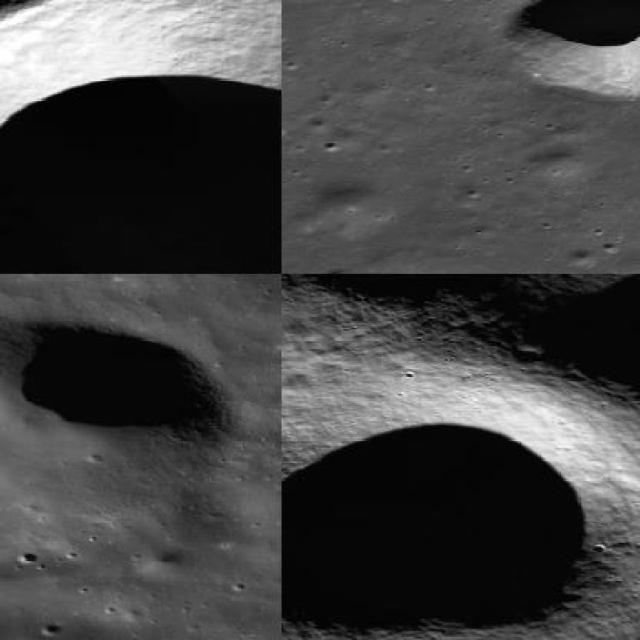crater: (0, 0, 280, 272), (282, 406, 600, 639), (0, 323, 238, 567), (503, 0, 639, 102)
